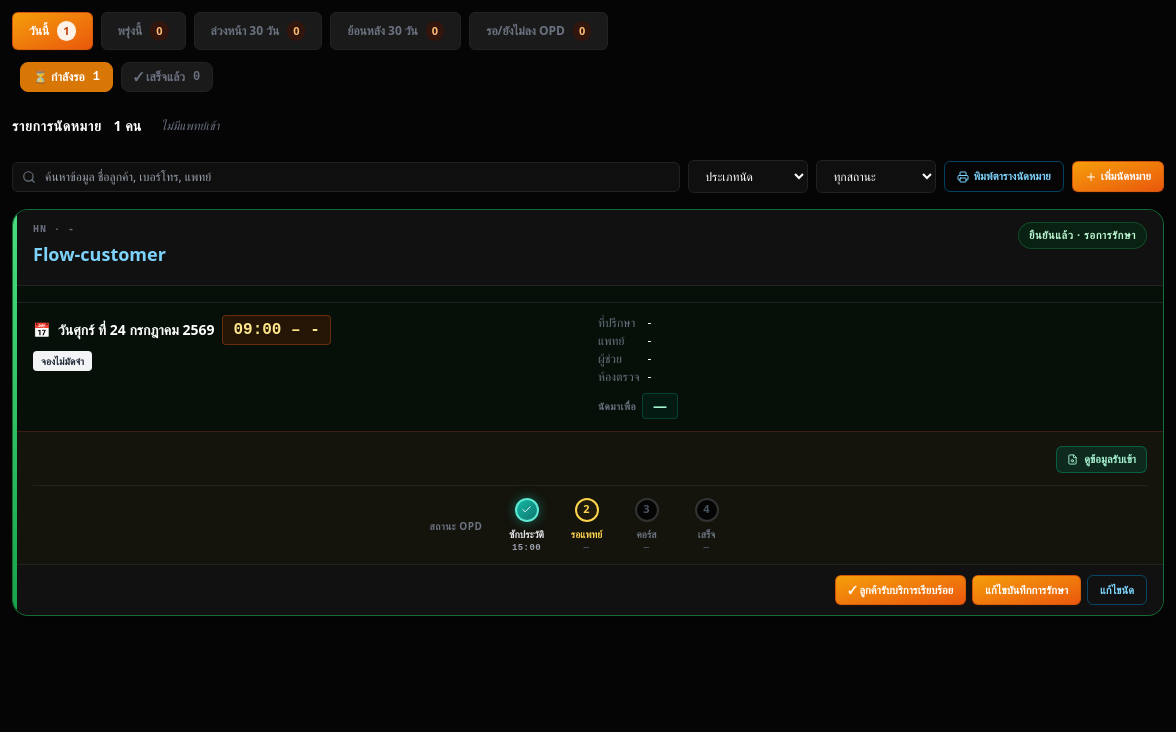
Test case: V71 Rule I — full-flow simulate › F1.1 load → stepper visible → click mark-complete → moves to completed sub-pill
Expected: the element with test id "appt-hub-row" is shown, [12,209,1164,616]
Expected: the element with test id "appt-row-opd-stepper" is shown, [33,484,1147,556]
Click mark-complete + confirm
Click the button with test id "row-action-mark-complete" at (901, 590), box [835,574,966,605]
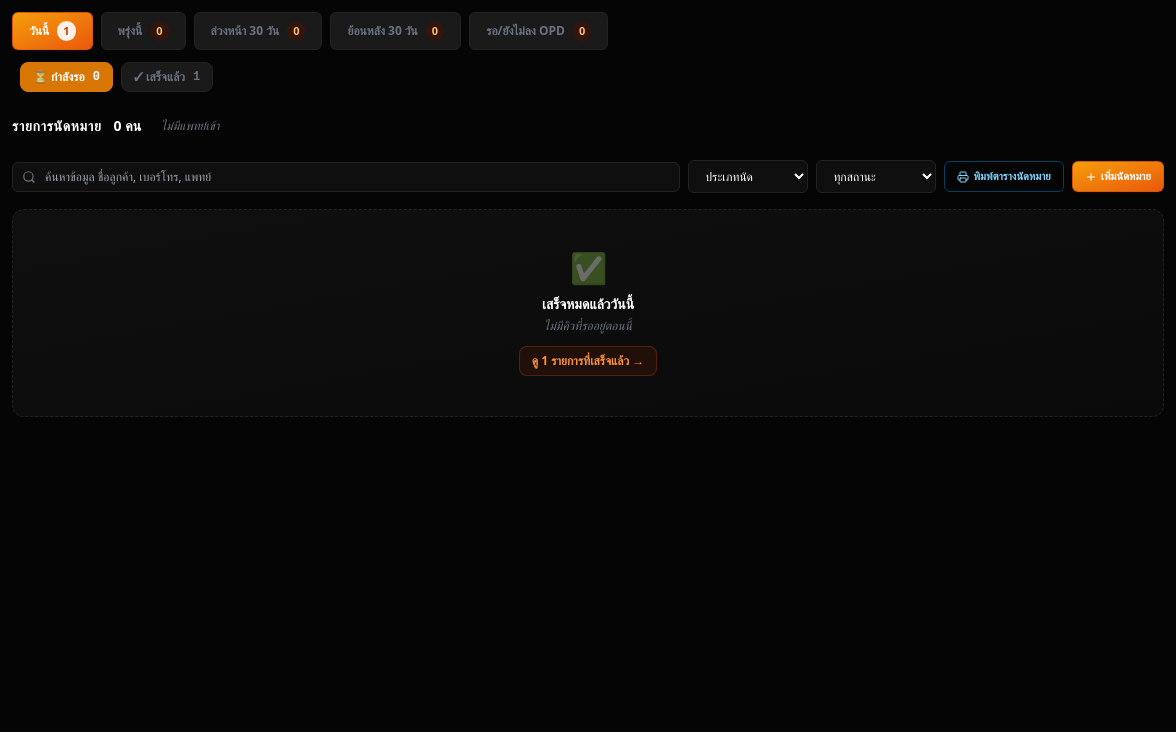
Expected: the tab with test id "sub-pill-waiting" shows "0", [20,62,113,92]
Expected: the tab with test id "sub-pill-completed" shows "1"
Expected: the link "Flow-customer" is gone
Click completed sub-pill → row reappears
Click the tab with test id "sub-pill-completed" at (167, 77), box [121,62,213,92]
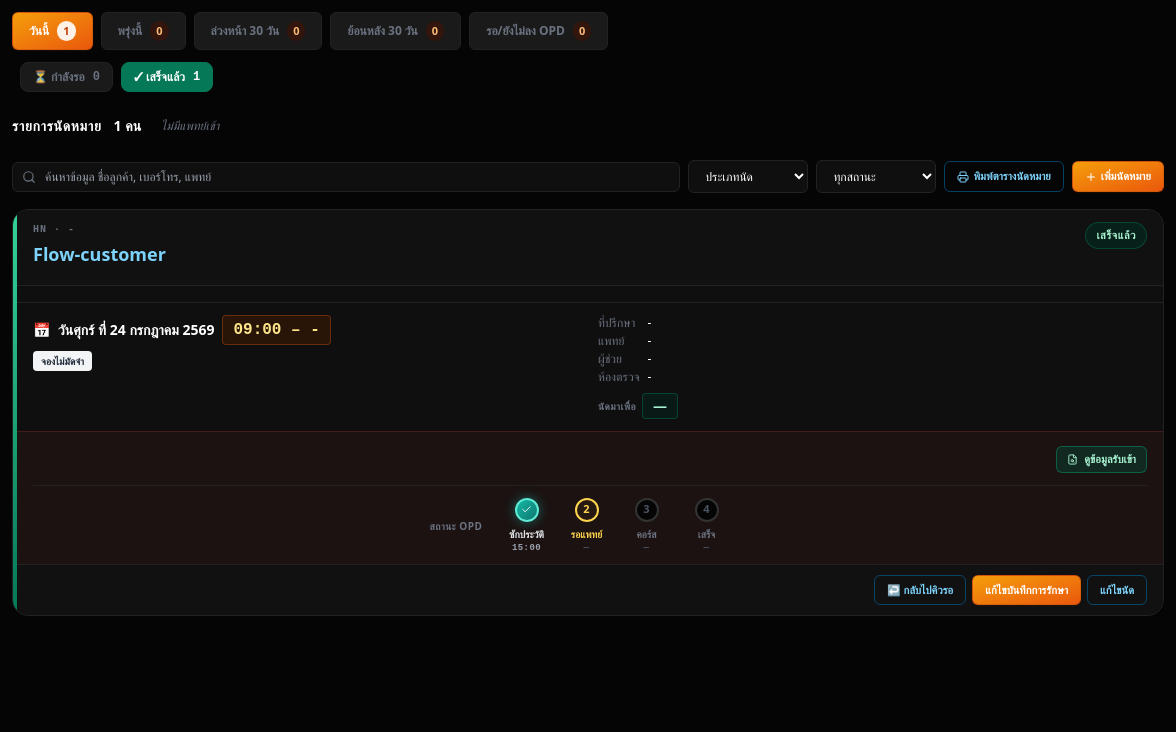
Expected: the text "Flow-customer" is shown, [33,242,166,266]
